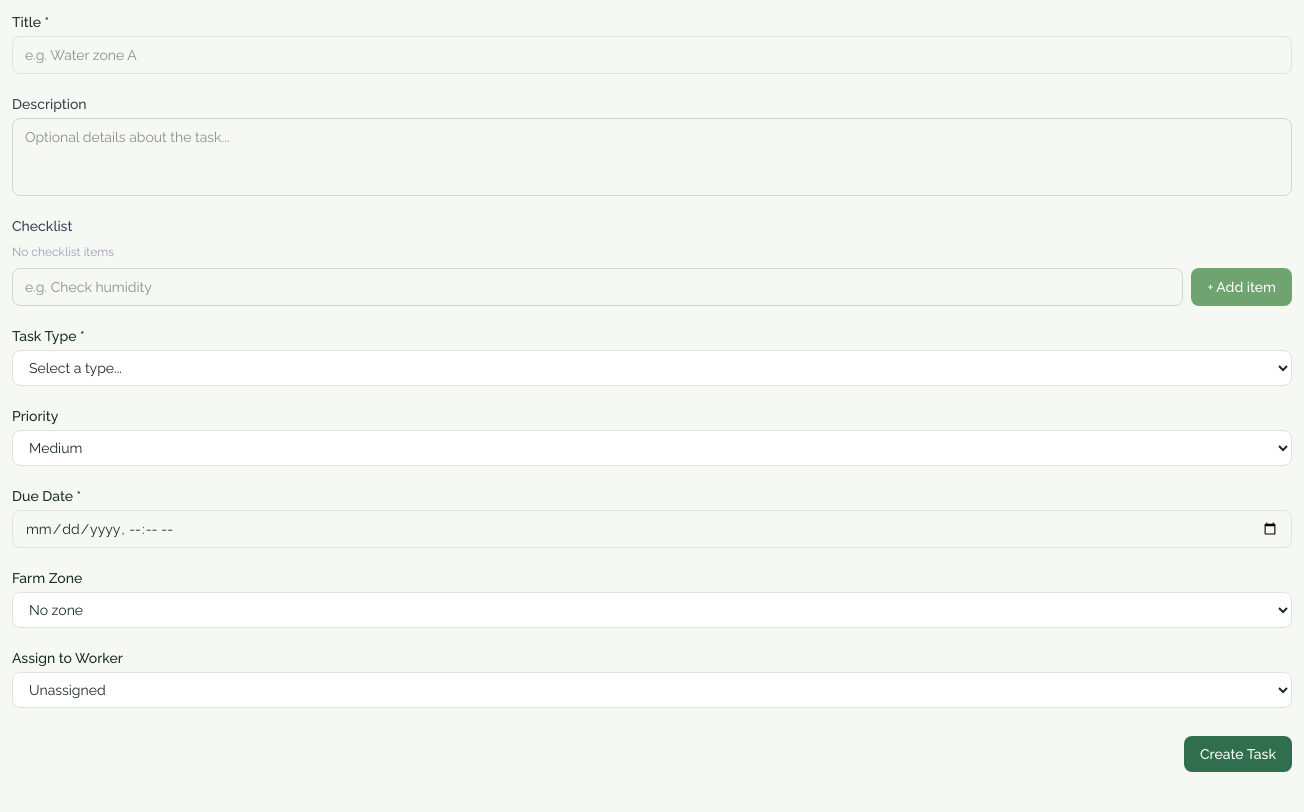
Test: TaskForm – checklist section › hides "No checklist items" placeholder after the first item is added
The image size is (1304, 812).
Type "First item" into the field with placeholder "e.g. Check humidity".
click(598, 287); type("First item")  # box [12,268,1183,306]
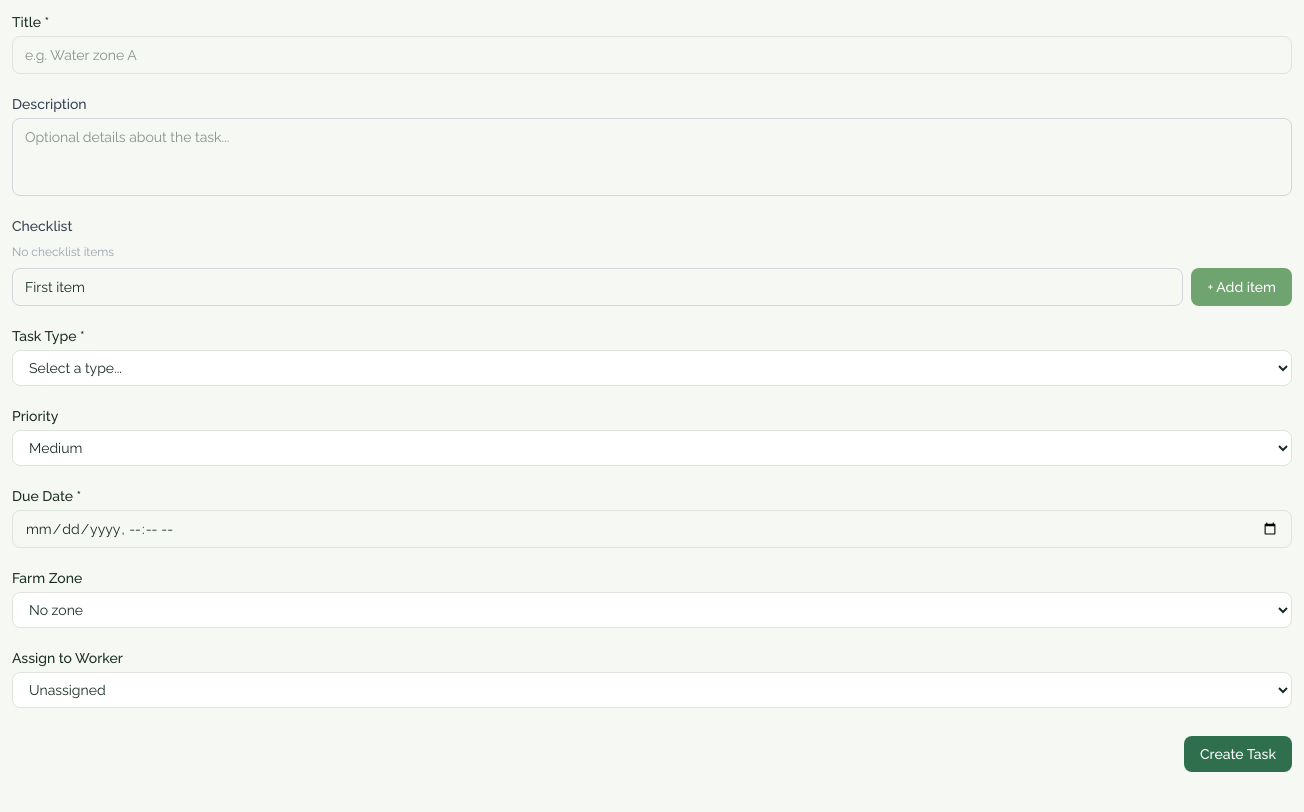
Click the button "+ Add item".
click(1242, 287)  # box [1191,268,1292,306]
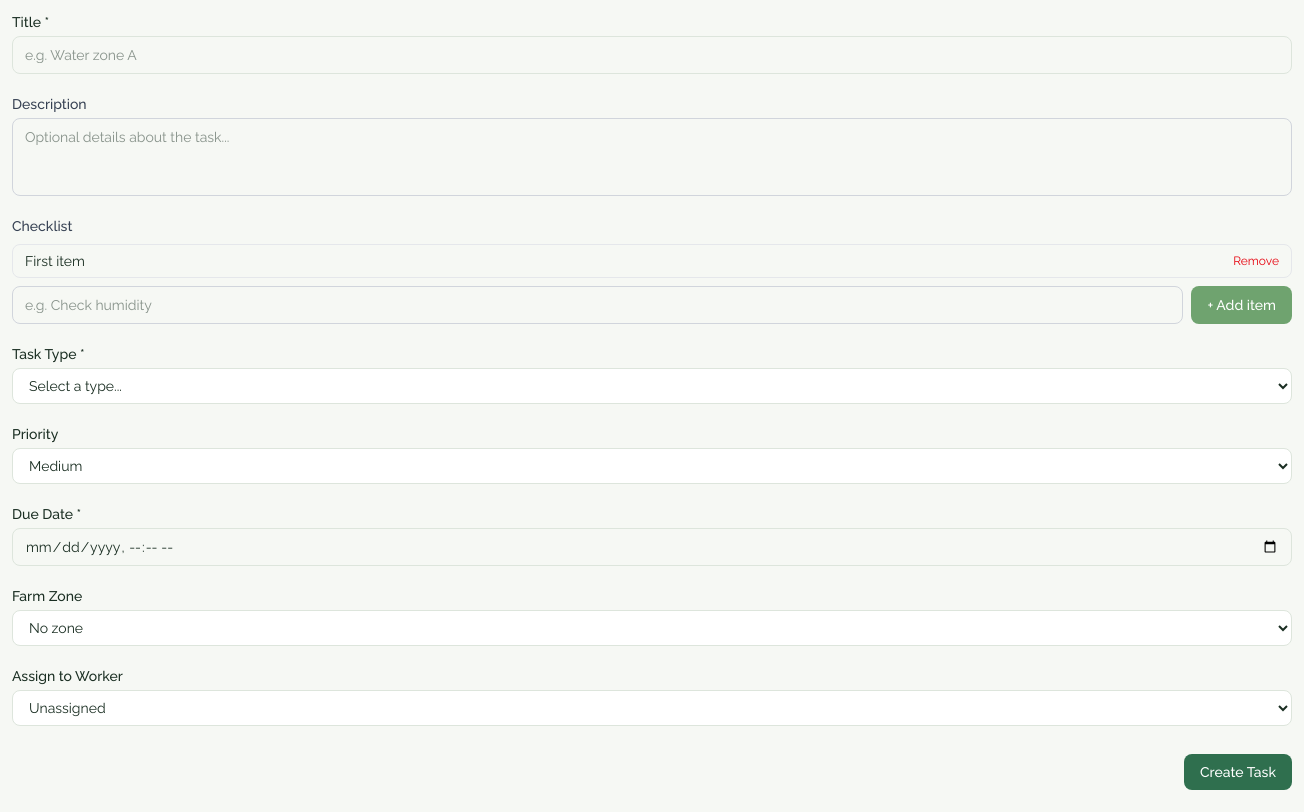
expect the text "No checklist items" is gone: met
